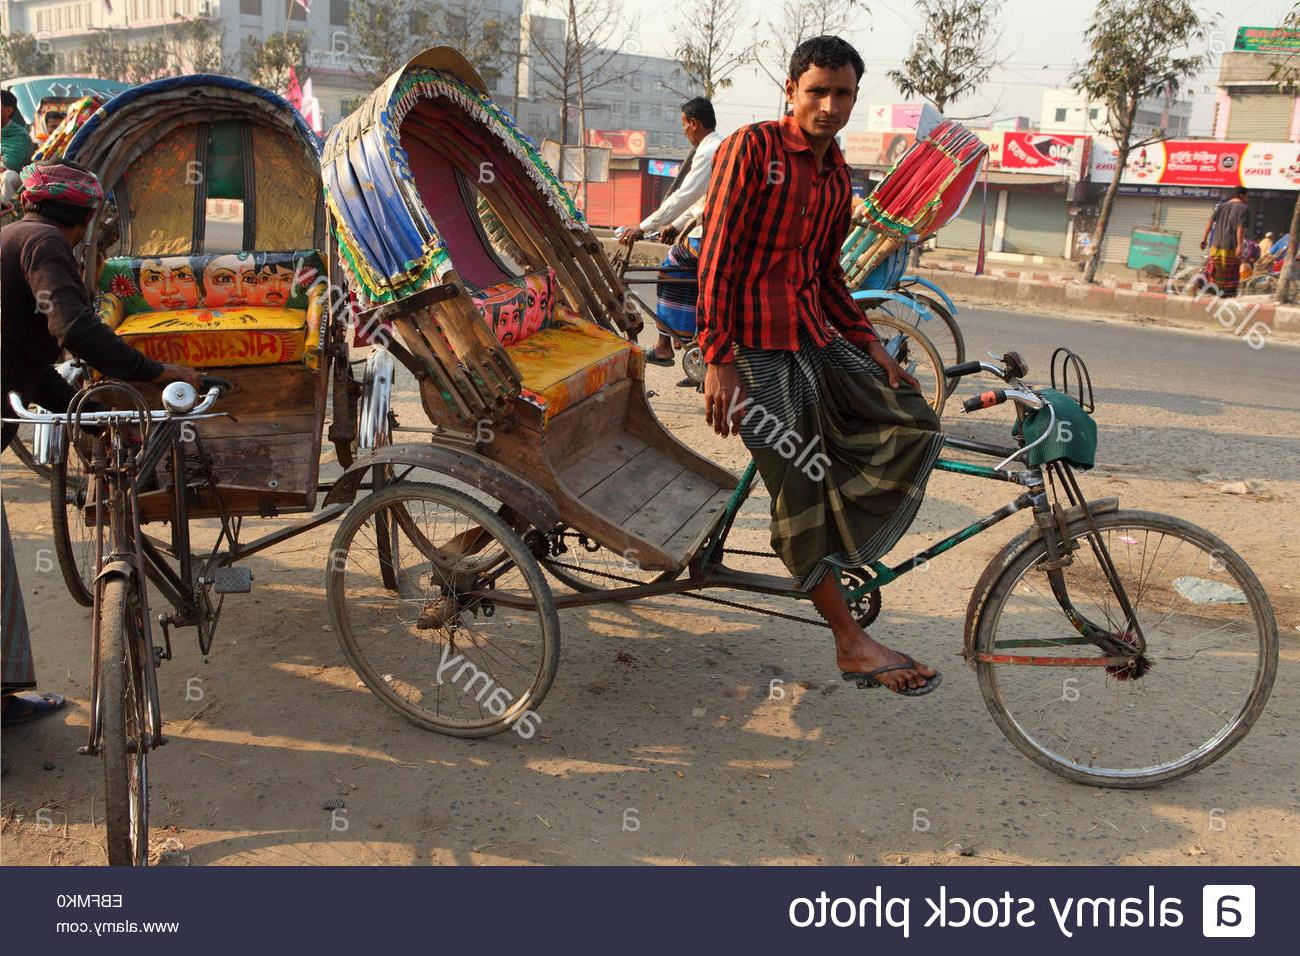Rickshaw: (320, 28, 1285, 810), (39, 66, 354, 878), (858, 98, 989, 415)
